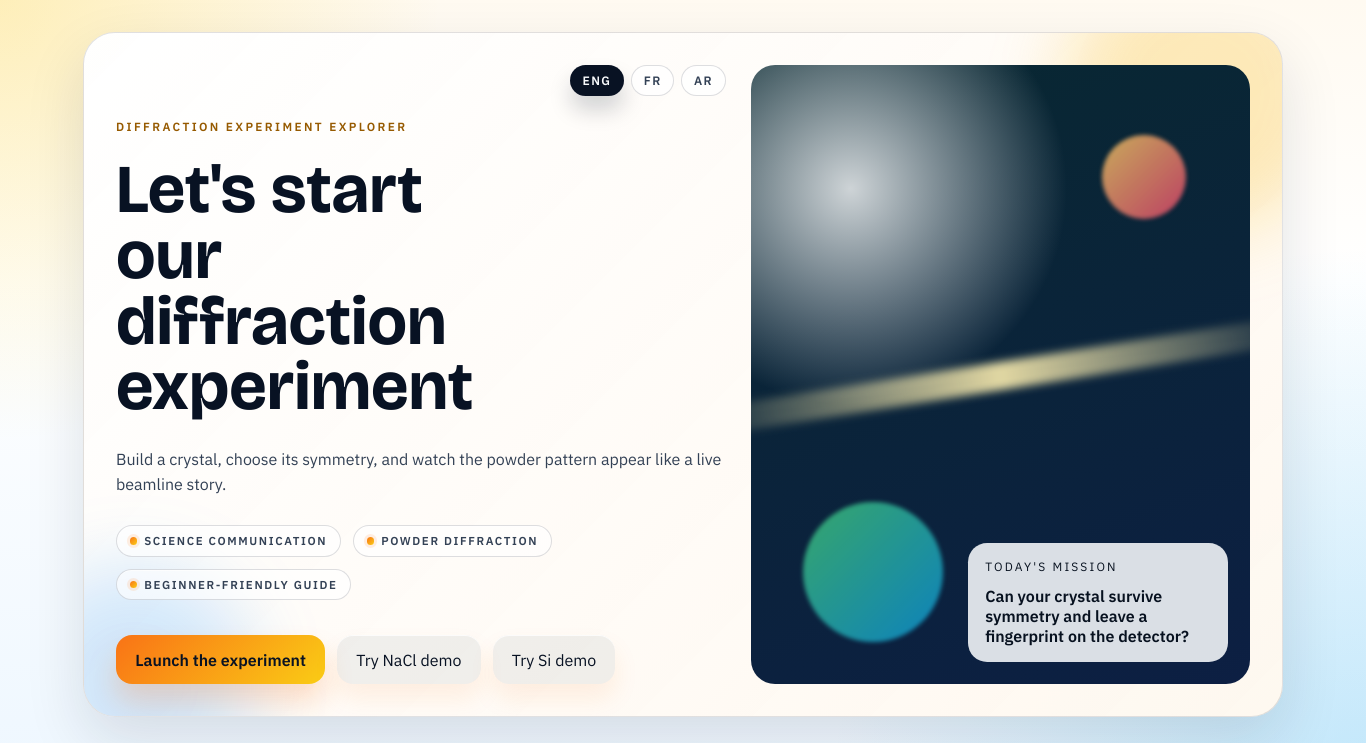
Test case: ExperimentExplorer › resets the experiment when launch is clicked again
Step 1. Click the button "Try NaCl demo" → point(409, 660), box [337,635,481,684]
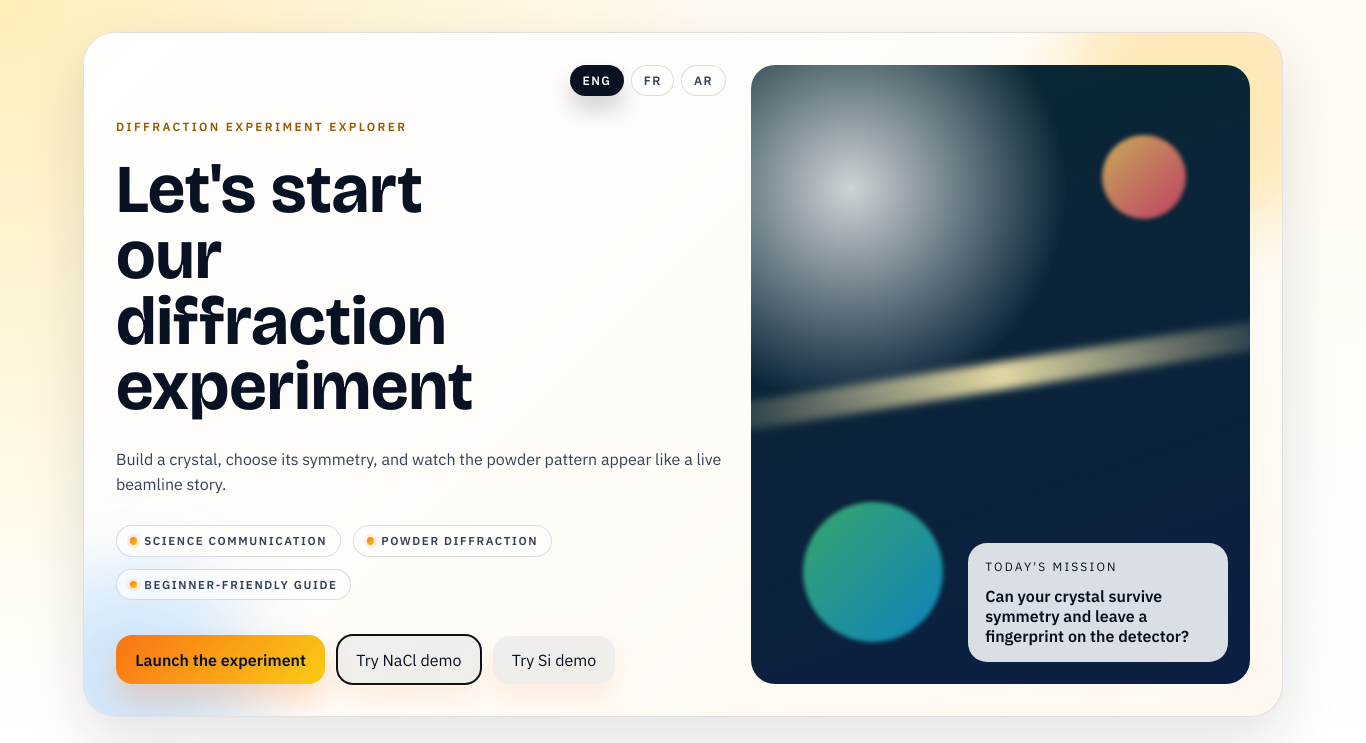
Step 2. Click the button "Launch the experiment" → point(221, 660), box [116,635,325,684]
(page scrolled)
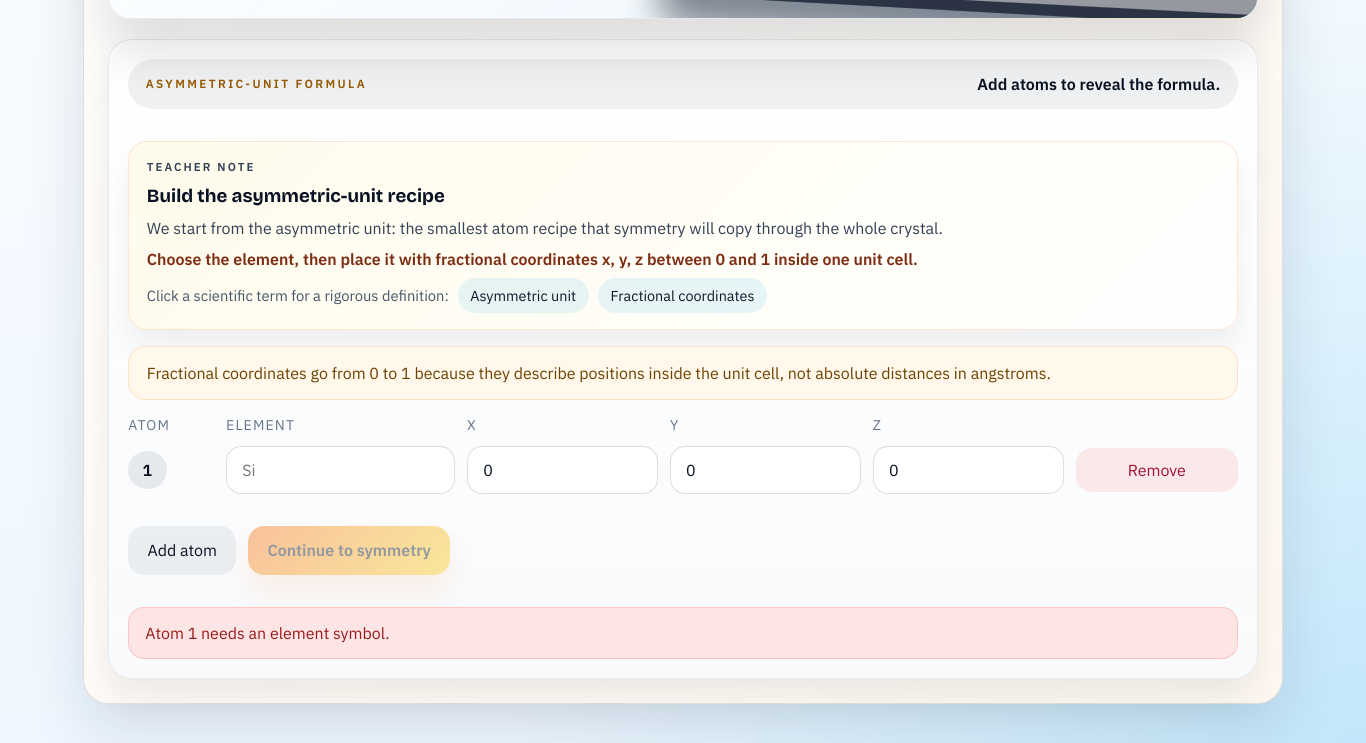
Check: the field with placeholder "Si" is empty, box [226,446,455,494]
Check: the button "Continue to symmetry" is disabled, box [248,526,450,575]
